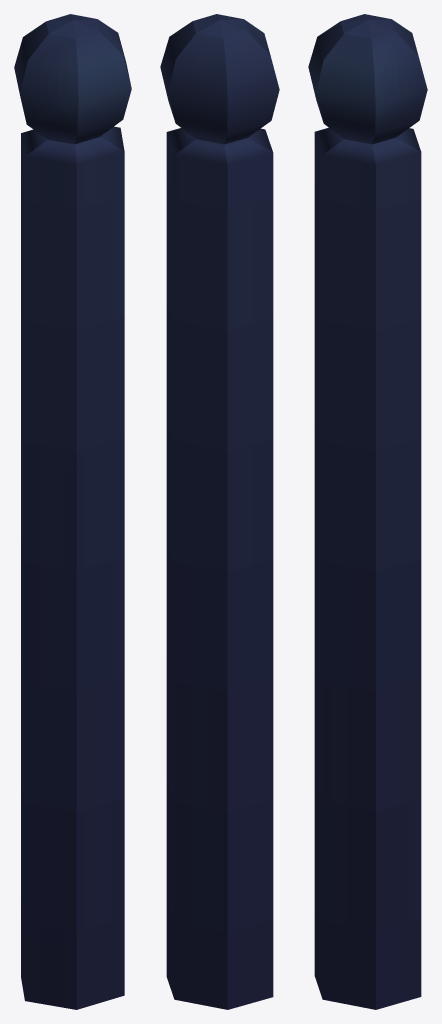
File: Iron_fence_Endcap.fbx
3 renders of one model, left to right at view 1: azimuth 30°, elevation 25°; view 2: azimuth 150°, elevation 25°; view 3: azimuth 330°, elevation 25°, orthographic.
Visible parts, largest first — view 1: Iron_Fence_Endcap; view 2: Iron_Fence_Endcap; view 3: Iron_Fence_Endcap.
Boxes of the visible parts, x1=… form: Iron_Fence_Endcap: x1=14, y1=14, x2=131, y2=1009; Iron_Fence_Endcap: x1=160, y1=14, x2=279, y2=1009; Iron_Fence_Endcap: x1=308, y1=14, x2=427, y2=1009.
Size of the model in its own units: 1.04 by 8.52 by 0.9197.
